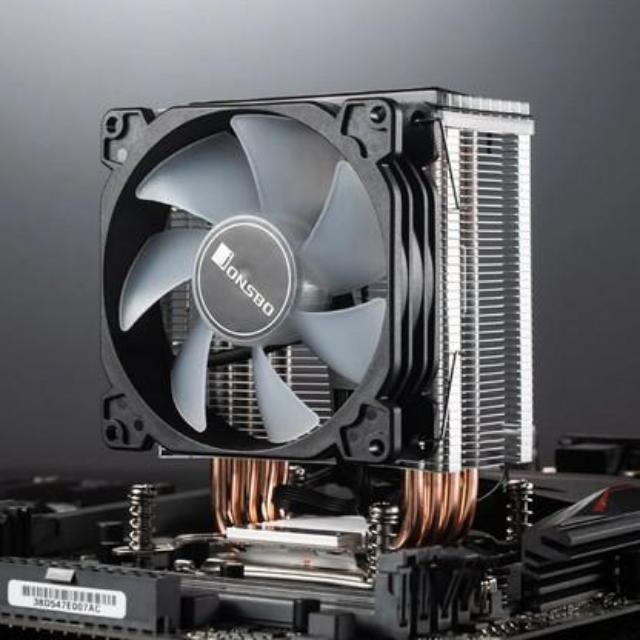CPU_Fan: (98, 84, 534, 576)
